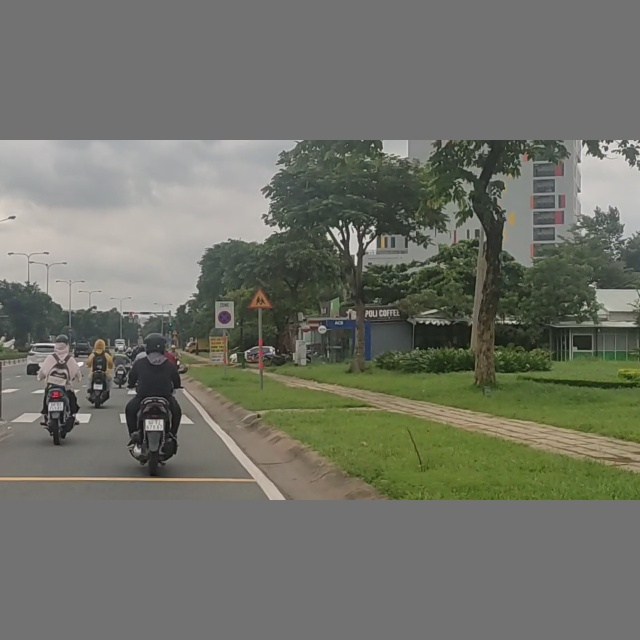P.130: (218, 311, 232, 325)
W.225: (248, 287, 273, 310)
